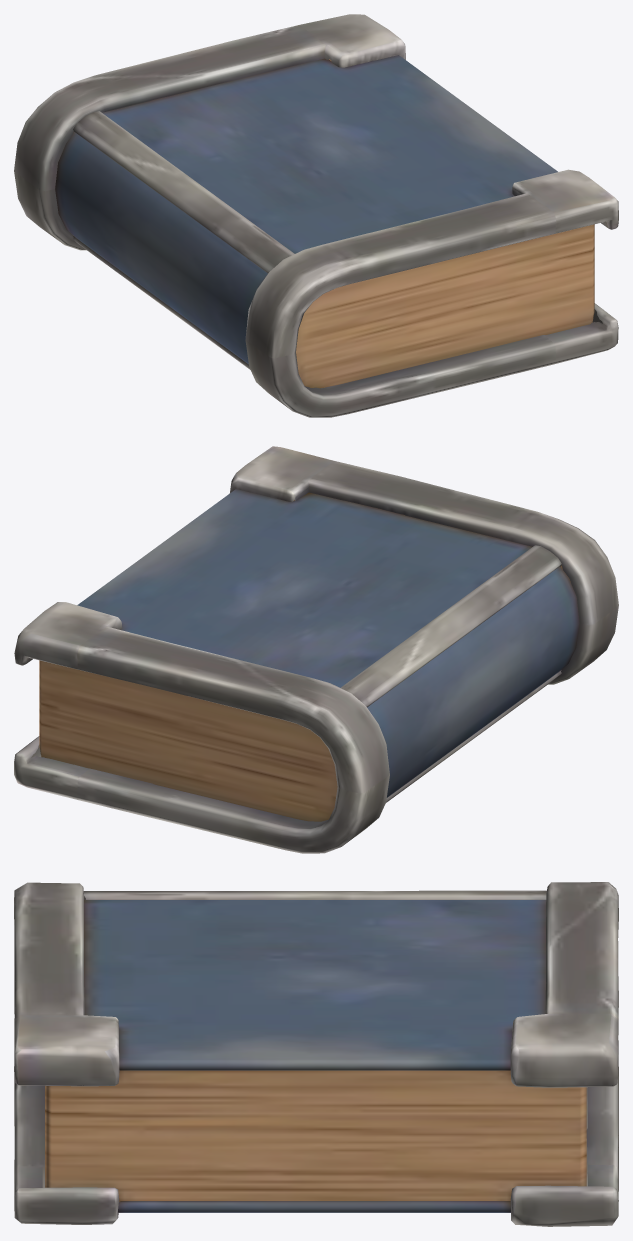
The picture shows the model from 3 angles, top to bottom: view 1: azimuth 30°, elevation 25°; view 2: azimuth 150°, elevation 25°; view 3: azimuth 270°, elevation 25°; orthographic projection. The views are drawn at different scales.
Parts seen in each view (by area): view 1: SM_Journal_Book_01_Closed_LOD0; view 2: SM_Journal_Book_01_Closed_LOD0; view 3: SM_Journal_Book_01_Closed_LOD0.
Part boxes in pixels (left/top/right/bottom): SM_Journal_Book_01_Closed_LOD0: left=14, top=14, right=618, bottom=417; SM_Journal_Book_01_Closed_LOD0: left=14, top=446, right=618, bottom=853; SM_Journal_Book_01_Closed_LOD0: left=14, top=882, right=618, bottom=1226.
Bounding box in the file's own units: 0.2949 × 0.1242 × 0.379.
1 material, 1 textured.
